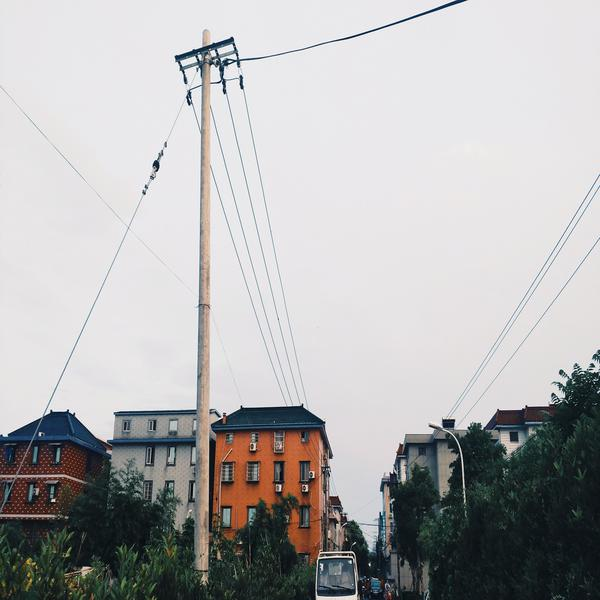utility_pole: (170, 22, 249, 134)
